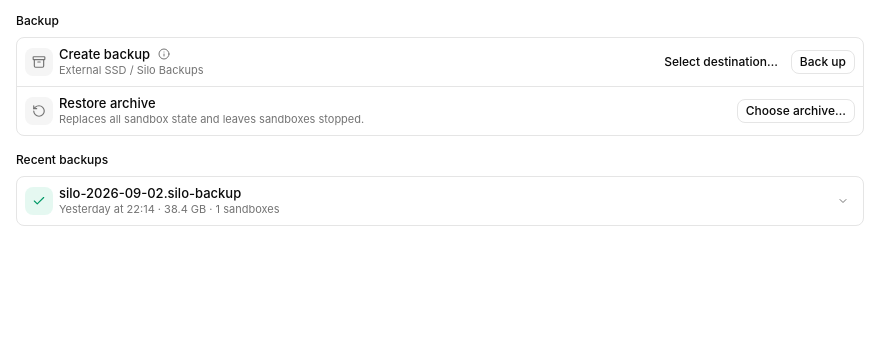
Test: BackupPage › uses the current virtual machine names in fixture archive details
The width and height of the screenshot is (881, 339).
What coordinates should you click on to do the following:
click the button named "Details for silo-2026-09-02.silo-backup"
I would click on:
 (843, 201)
Its box is [831,189,855,213].
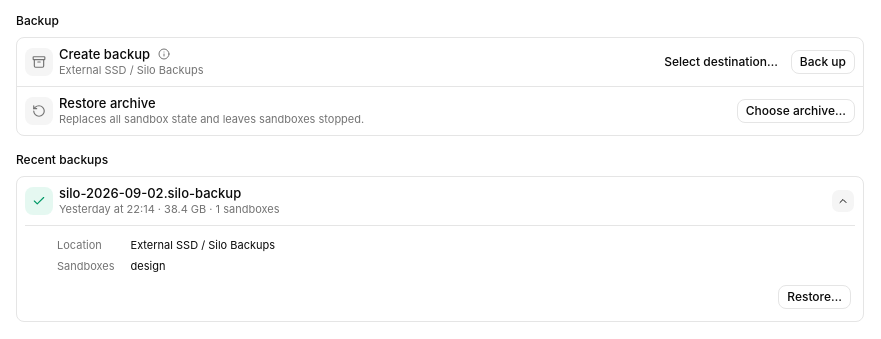
Result: the text "design" is shown at [130,259,165,273]
